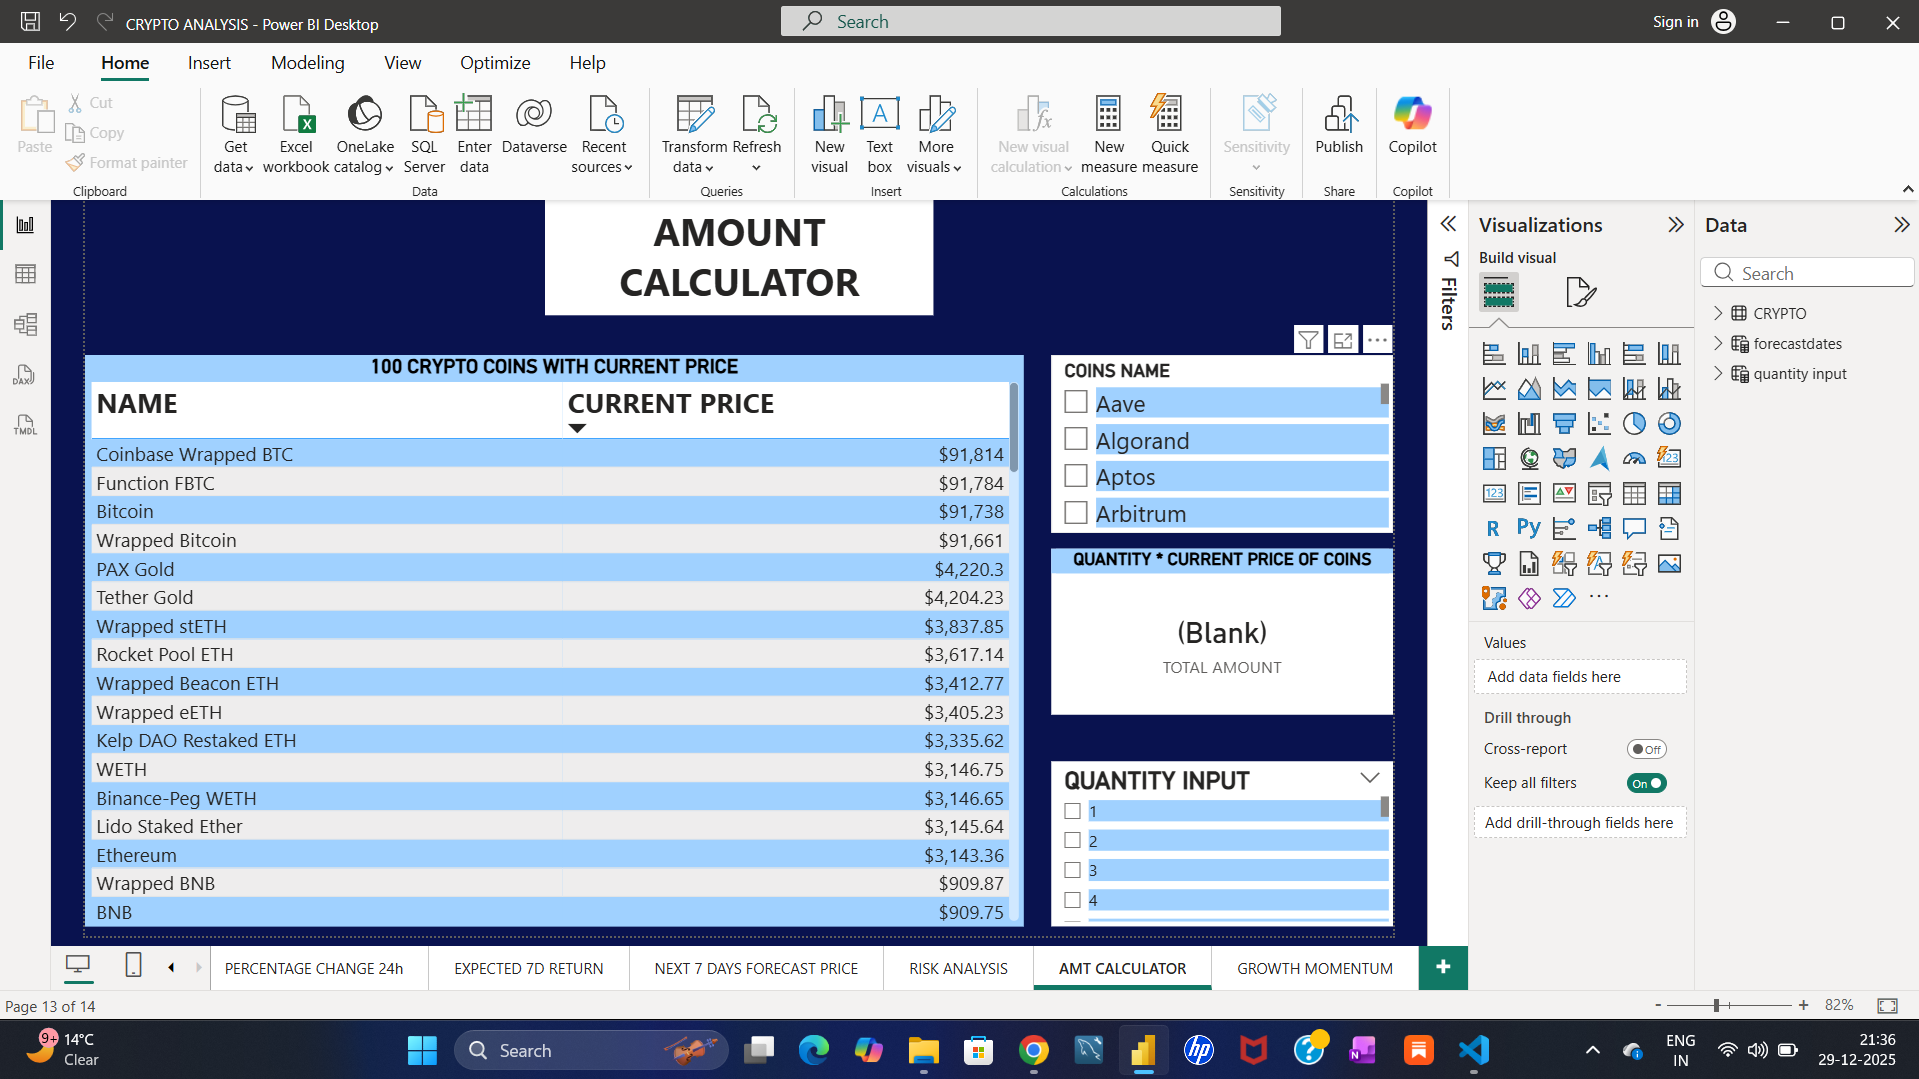

The dashboard page shown, as its layout file describes it:
{"tool":"powerbi","page":{"name":"AMT CALCULATOR","canvas":[1280,720],"ordinal":12},"visuals":[{"type":"slicer","fields":{"Values":["quantity input.Value"]},"box":[945.2,549.1,335.1,161.4],"z":0},{"type":"card","title":"QUANTITY * CURRENT PRICE OF COINS","fields":{"Values":["quantity input.TOTAL AMOUNT"]},"box":[945.2,341.2,335.1,162.6],"z":1000},{"type":"tableEx","title":"100 CRYPTO COINS WITH CURRENT PRICE","fields":{"Values":["CRPTO.name","Sum(CRPTO.current_price)"]},"box":[0,151.6,918.3,558.8],"z":2000},{"type":"slicer","fields":{"Values":["CRPTO.name"]},"box":[945.2,151.6,335.1,173.6],"z":3000},{"type":"textbox","box":[450,0,380.3,112.5],"z":4000}]}

Visuals, with their boxes on the page's 1280x720 design canvas (x1, y1, x2, y2). These are canvas units, not pixel positions in the 1919x1079 screenshot, which may show the page scaled, cropped or inside an application window:
slicer - quantity input.Value: 945,549,1280,710
"QUANTITY * CURRENT PRICE OF COINS" card: 945,341,1280,504
"100 CRYPTO COINS WITH CURRENT PRICE" tableEx: 0,152,918,710
slicer - CRPTO.name: 945,152,1280,325
textbox: 450,0,830,112
